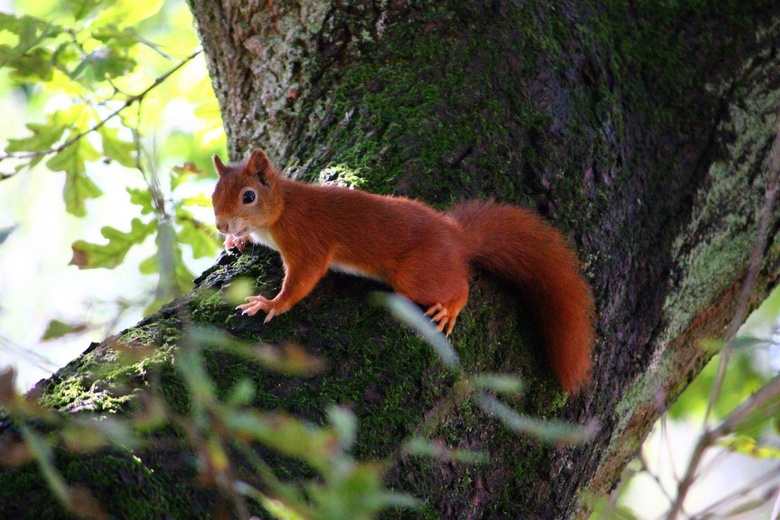Ardilla: (201, 142, 472, 331)
